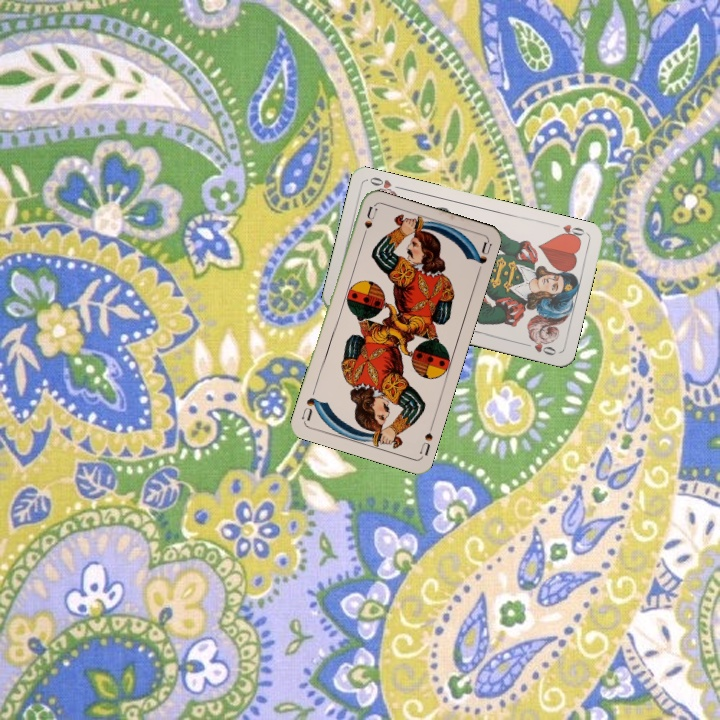HO: (548, 220, 589, 243)
SU: (358, 203, 380, 244), (415, 420, 436, 459)
